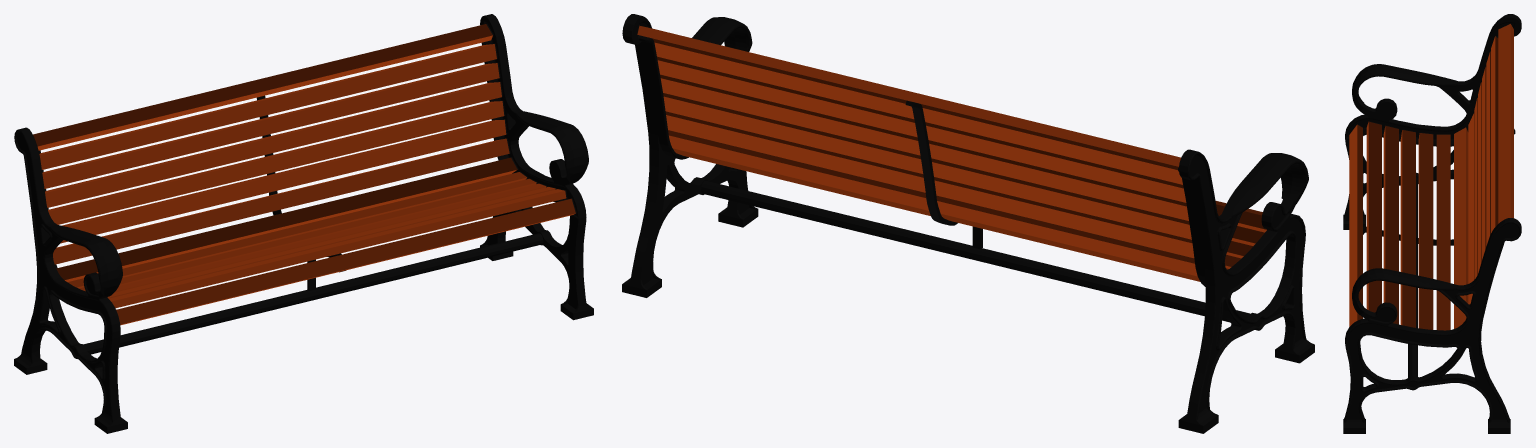
File: env_park_bench.fbx
3 views of the same model, side by side, from view 1: azimuth 30°, elevation 25°; view 2: azimuth 150°, elevation 25°; view 3: azimuth 270°, elevation 25° (orthographic). The views are drawn at different scales.
Visible parts, largest first — view 1: seat, frame; view 2: seat, frame; view 3: seat, frame.
Part boxes in pixels (left/top/right/bottom): seat: left=33, top=24, right=575, bottom=325; frame: left=14, top=14, right=593, bottom=433; seat: left=637, top=25, right=1266, bottom=281; frame: left=622, top=14, right=1314, bottom=433; seat: left=1349, top=24, right=1513, bottom=330; frame: left=1343, top=14, right=1521, bottom=433.
Size of the model in its own units: 185 by 84.31 by 65.02.
